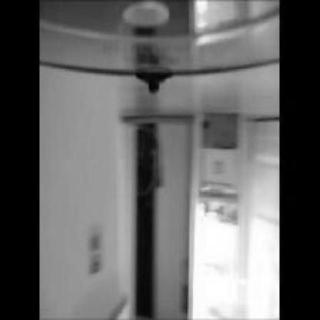other: (212, 112, 240, 146)
